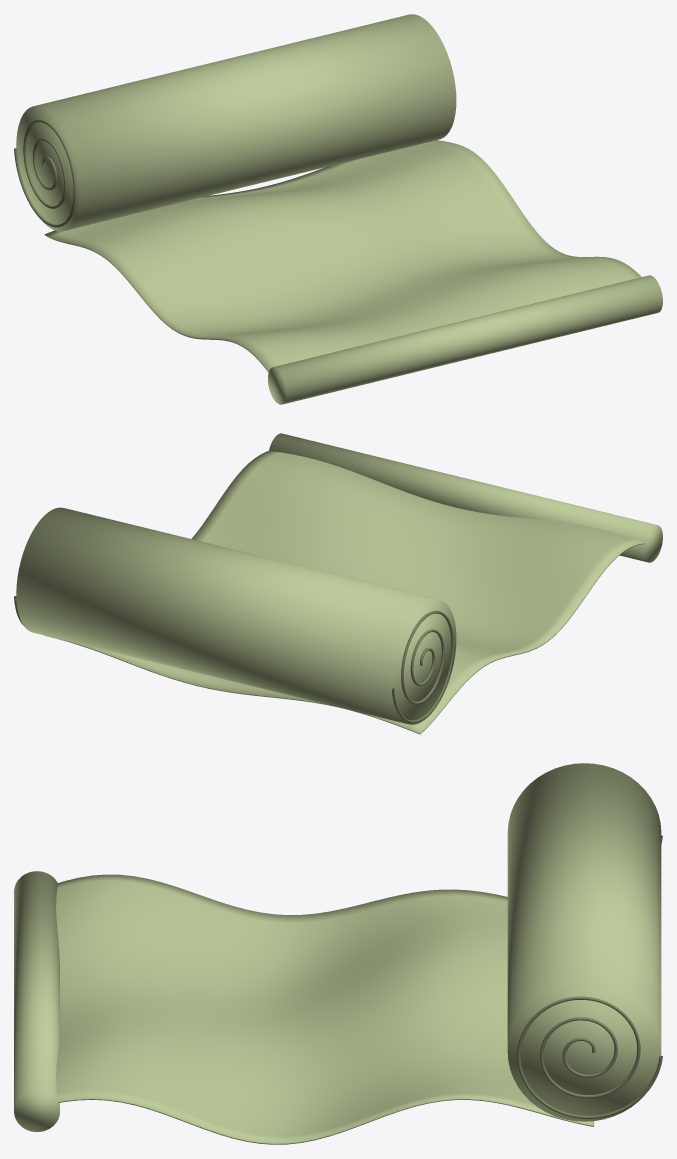
The picture shows the model from 3 angles, top to bottom: view 1: azimuth 30°, elevation 25°; view 2: azimuth 150°, elevation 25°; view 3: azimuth 270°, elevation 25°; orthographic projection. The views are drawn at different scales.
Parts seen in each view (by area): view 1: TI012 / editable draped woven sheet, TI012 / rolled cloth body, TI012 / partially rolled lower edge, TI012 / visible spiral selvage; view 2: TI012 / rolled cloth body, TI012 / editable draped woven sheet, TI012 / partially rolled lower edge, TI012 / visible spiral selvage; view 3: TI012 / editable draped woven sheet, TI012 / rolled cloth body, TI012 / partially rolled lower edge, TI012 / visible spiral selvage.001.
Part boxes in pixels (left/top/right/bottom): TI012 / editable draped woven sheet: left=44, top=140, right=641, bottom=372; TI012 / rolled cloth body: left=16, top=14, right=456, bottom=231; TI012 / partially rolled lower edge: left=268, top=275, right=662, bottom=404; TI012 / visible spiral selvage: left=14, top=119, right=76, bottom=227; TI012 / rolled cloth body: left=16, top=507, right=456, bottom=724; TI012 / editable draped woven sheet: left=45, top=450, right=644, bottom=734; TI012 / partially rolled lower edge: left=269, top=433, right=662, bottom=562; TI012 / visible spiral selvage: left=391, top=610, right=454, bottom=723; TI012 / editable draped woven sheet: left=56, top=874, right=594, bottom=1144; TI012 / rolled cloth body: left=507, top=763, right=661, bottom=1121; TI012 / partially rolled lower edge: left=14, top=871, right=59, bottom=1131; TI012 / visible spiral selvage.001: left=517, top=996, right=662, bottom=1118.
Bounding box in the file's own units: 2.73 × 0.9328 × 3.38.
